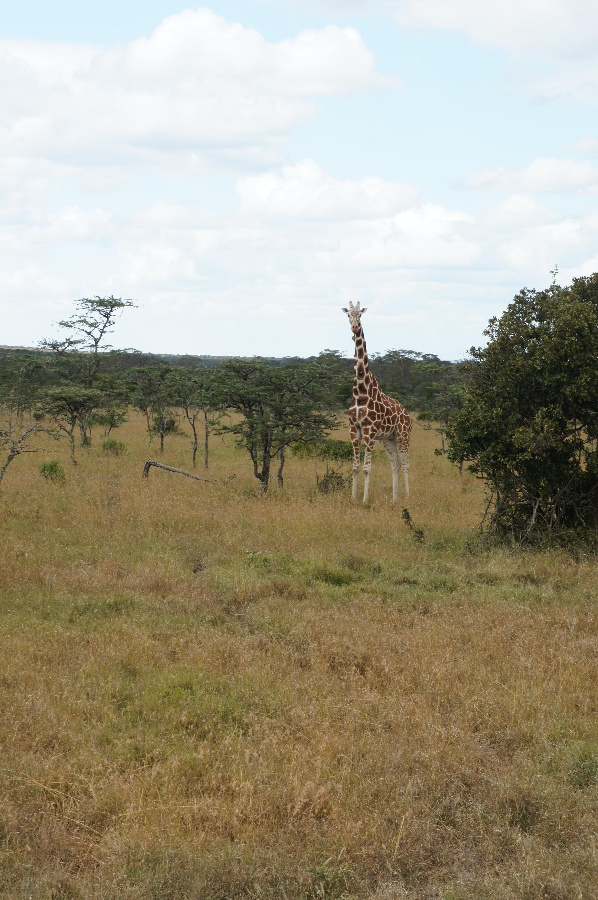giraffe: (336, 291, 418, 509)
